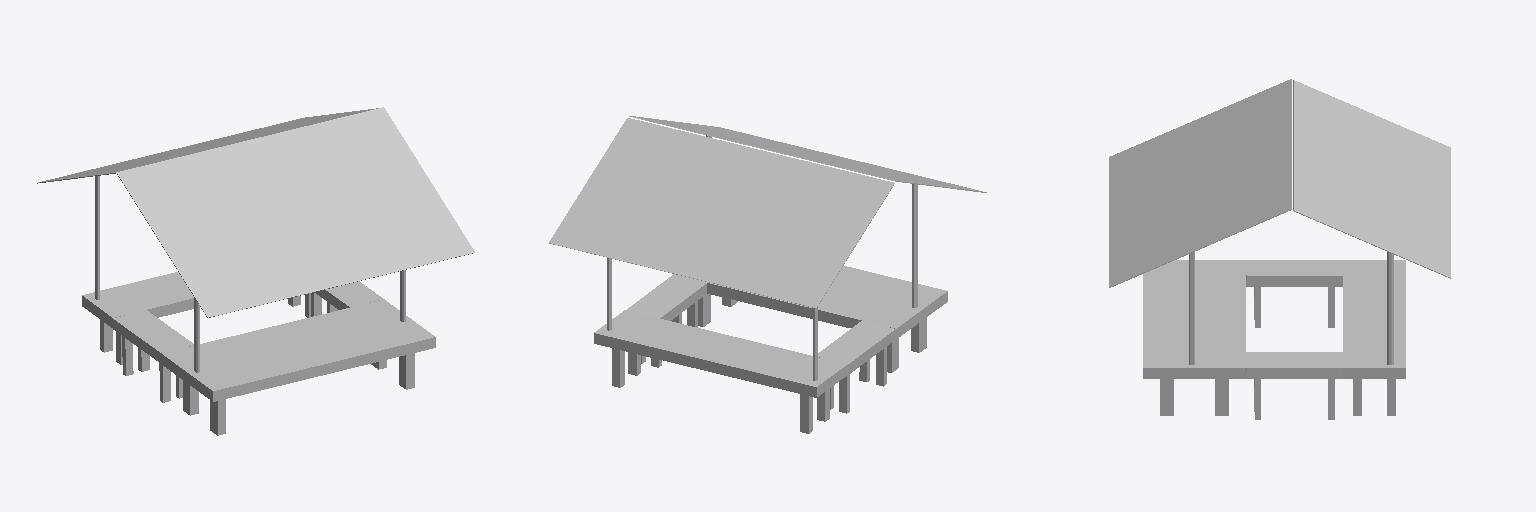
The model's file is MarketPlace.obj.
The picture shows the model from 3 angles: view 1: azimuth 30°, elevation 25°; view 2: azimuth 150°, elevation 25°; view 3: azimuth 270°, elevation 25°; orthographic projection.
Parts seen in each view (by area): view 1: pCube17; view 2: pCube17; view 3: pCube17.
Part boxes in pixels (left/top/right/bottom): pCube17: left=37, top=107, right=474, bottom=435; pCube17: left=549, top=116, right=986, bottom=433; pCube17: left=1109, top=79, right=1450, bottom=419.
Size of the model in its own units: 14.64 by 11.71 by 16.23.